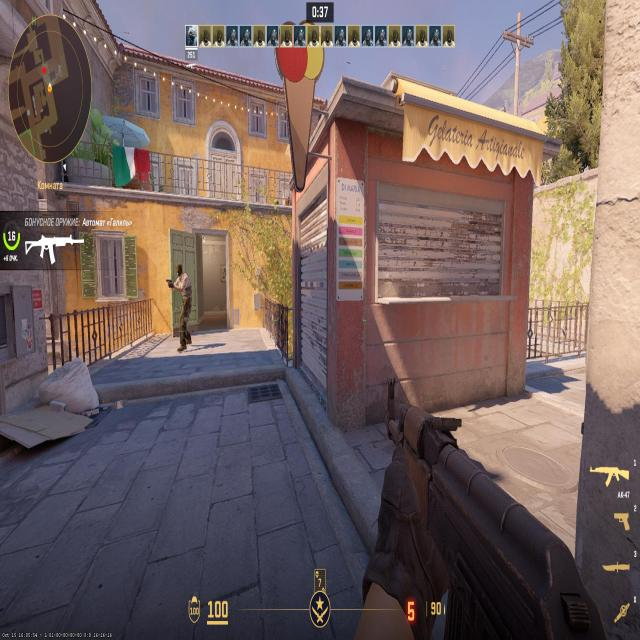T: (177, 262, 190, 334)
T_heat: (179, 266, 183, 282)
